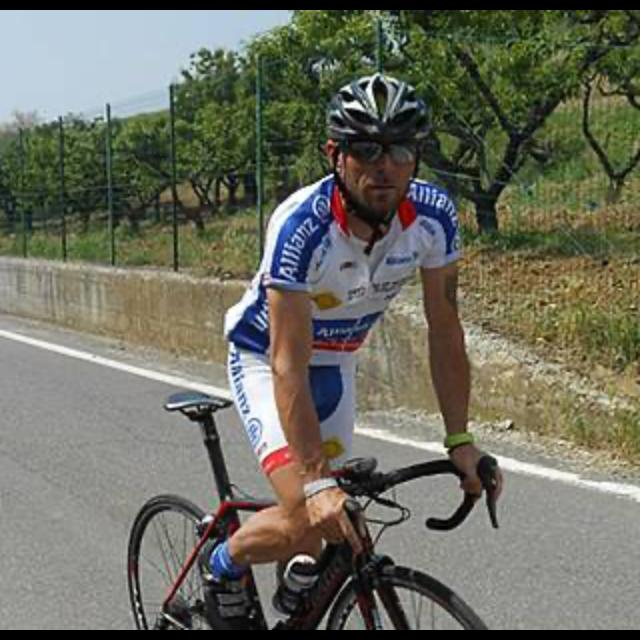With Helmet: (312, 66, 442, 232)
